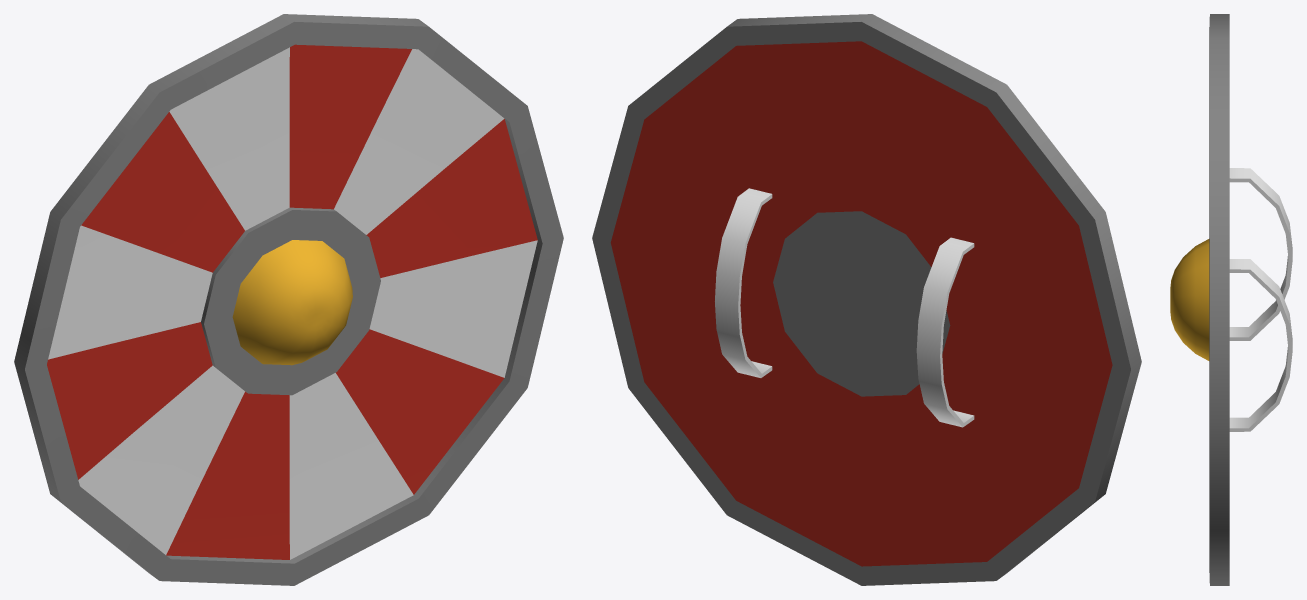
Rendered from Shield.fbx.
The picture shows the model from 3 angles, left to right: view 1: azimuth 30°, elevation 25°; view 2: azimuth 150°, elevation 25°; view 3: azimuth 270°, elevation 25°; orthographic projection. The views are drawn at different scales.
Parts seen in each view (by area): view 1: Shield; view 2: Shield; view 3: Shield.
Part boxes in pixels (x1,y1,x2,y2): Shield: [14, 14, 563, 585]; Shield: [592, 14, 1141, 585]; Shield: [1170, 14, 1292, 585].
Bounding box in the file's own units: 180 × 180 × 38.5.
